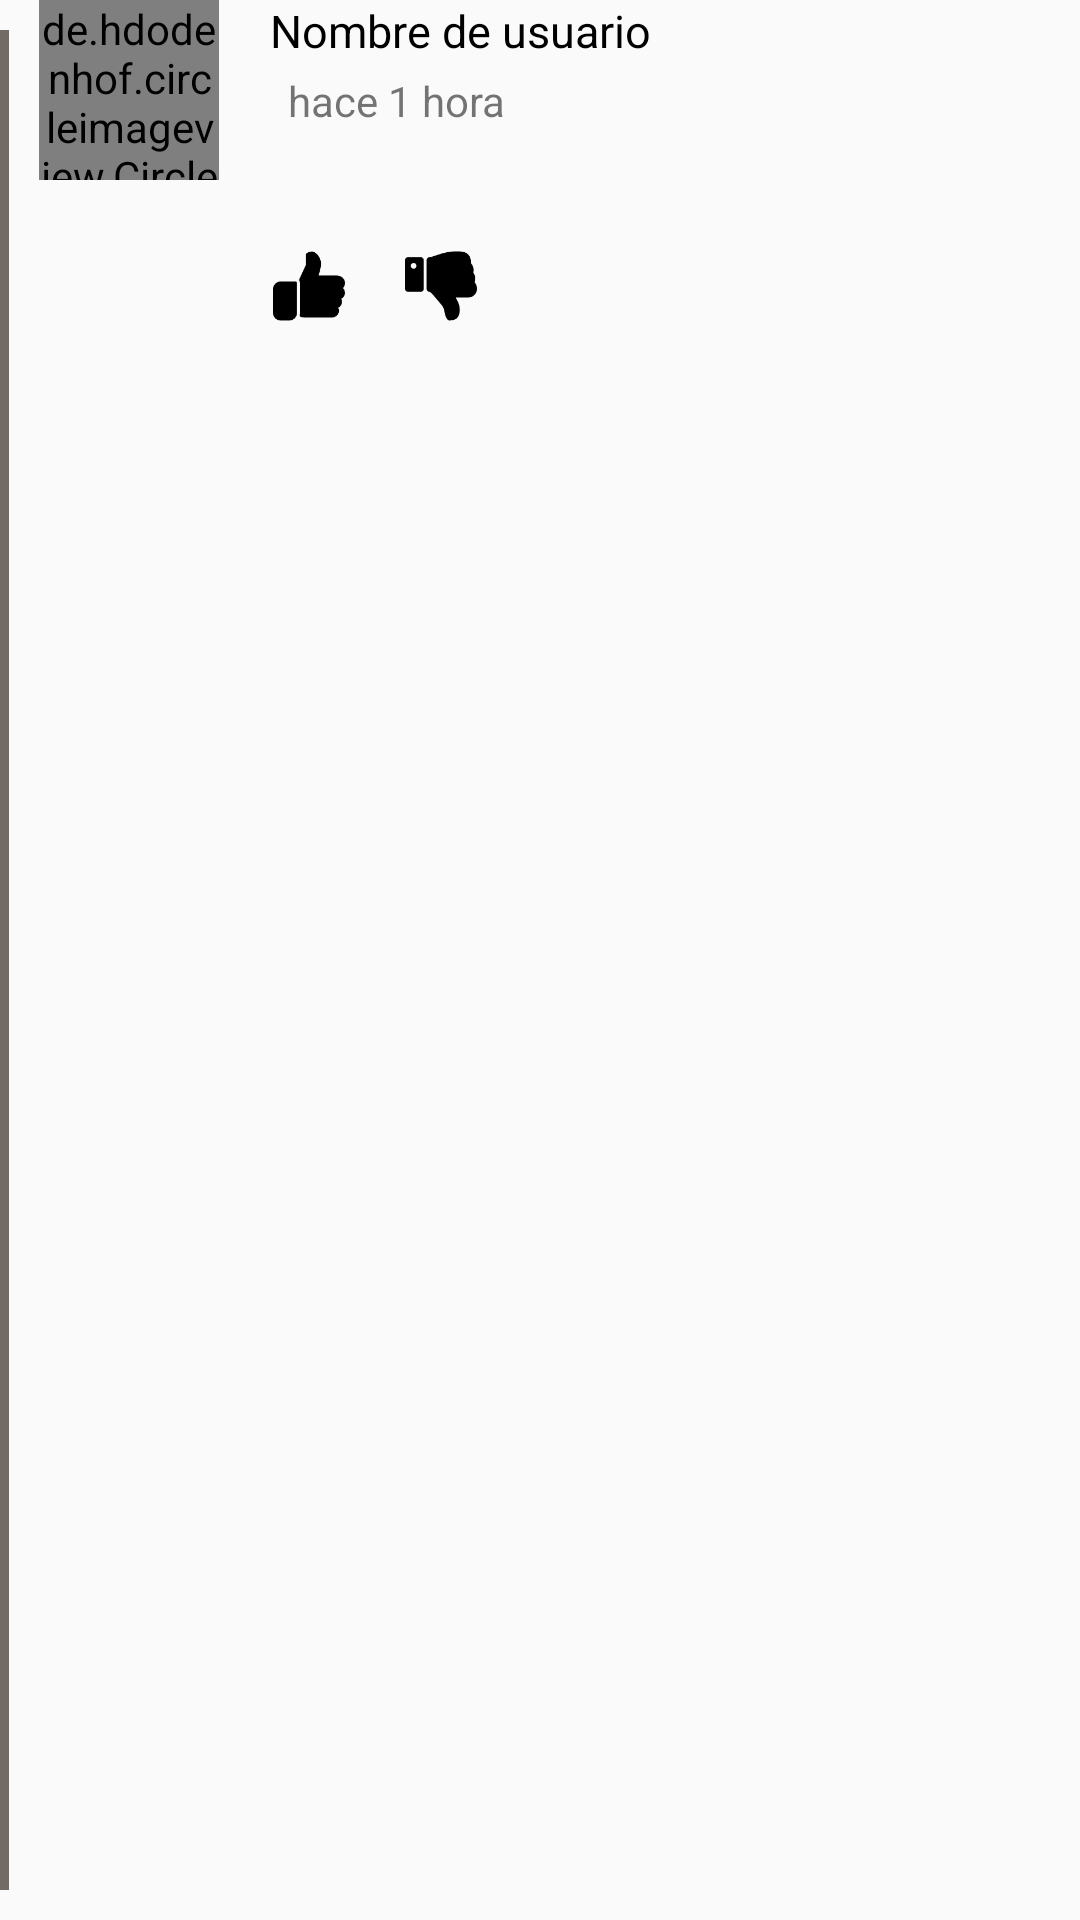

Icons on this 1080px x 1920px Android screen, each with the point to tap as (x=x, y=y):
megusta: (x=309, y=286)
nomegusta: (x=441, y=286)
